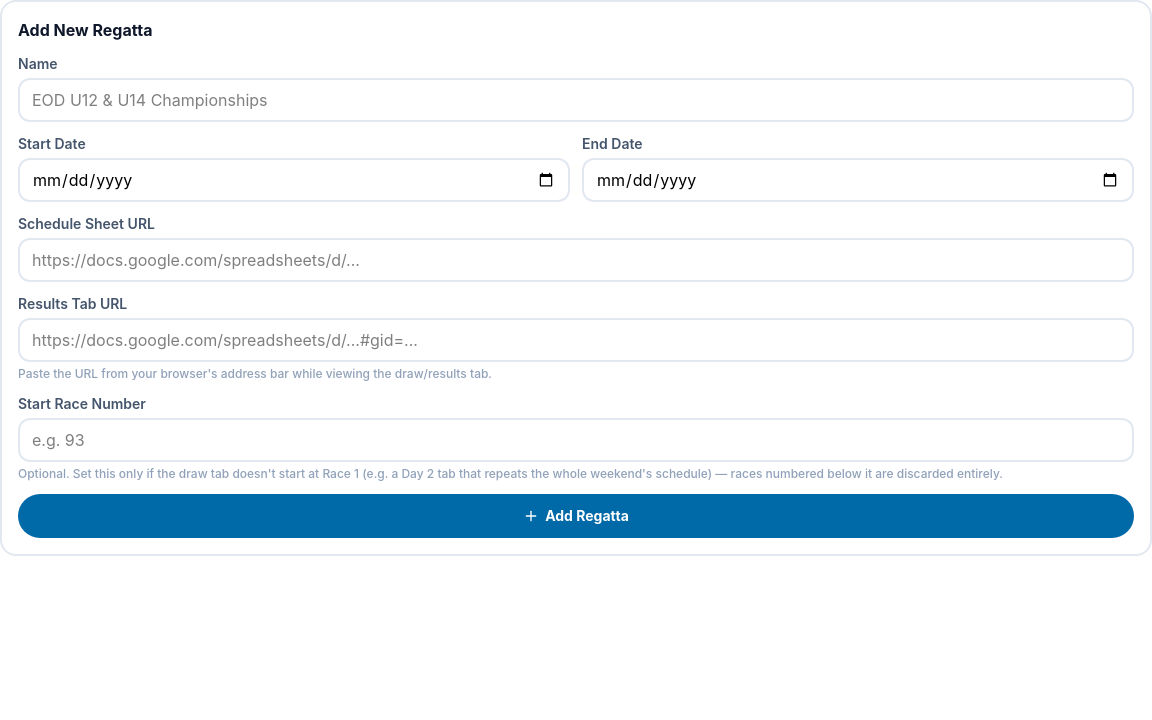
AdminRegattaForm › auto-fills the end date to match the start date, for the common one-day event
The image size is (1152, 720).
Type "2026-08-15" into the date field labelled "Start Date".
click(294, 180); type("2026-08-15")  # box [18, 158, 570, 202]
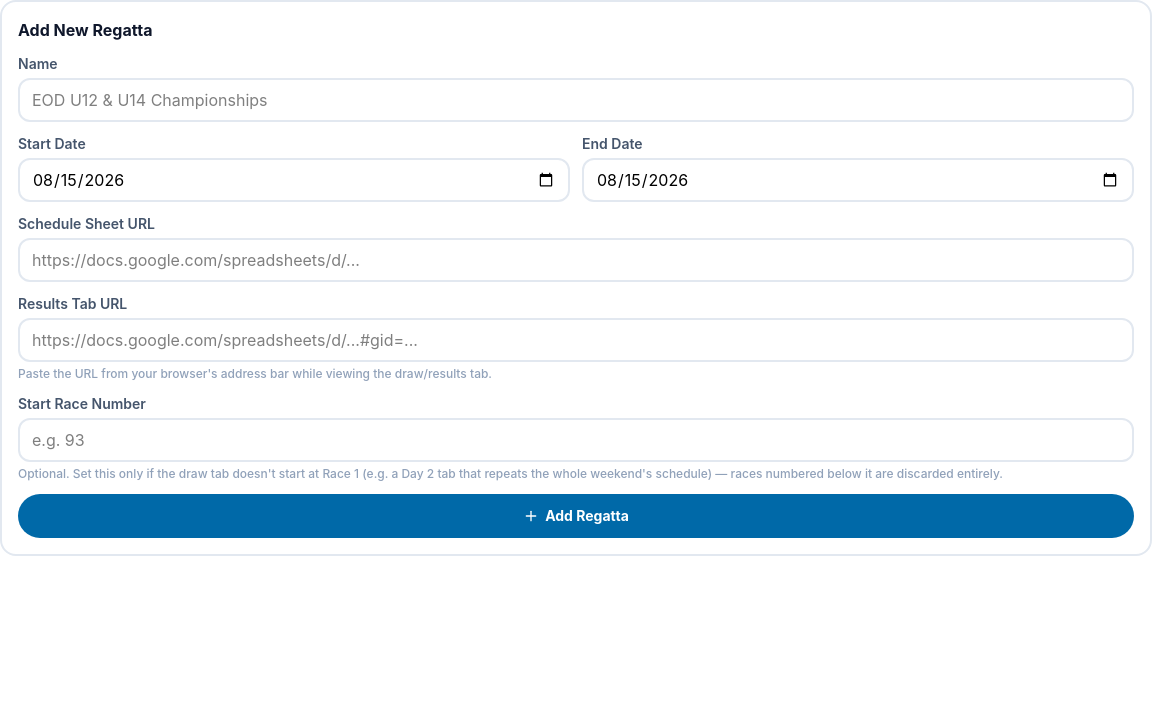
Now the date field labelled "End Date" holds "2026-08-15", box [582, 158, 1134, 202]
